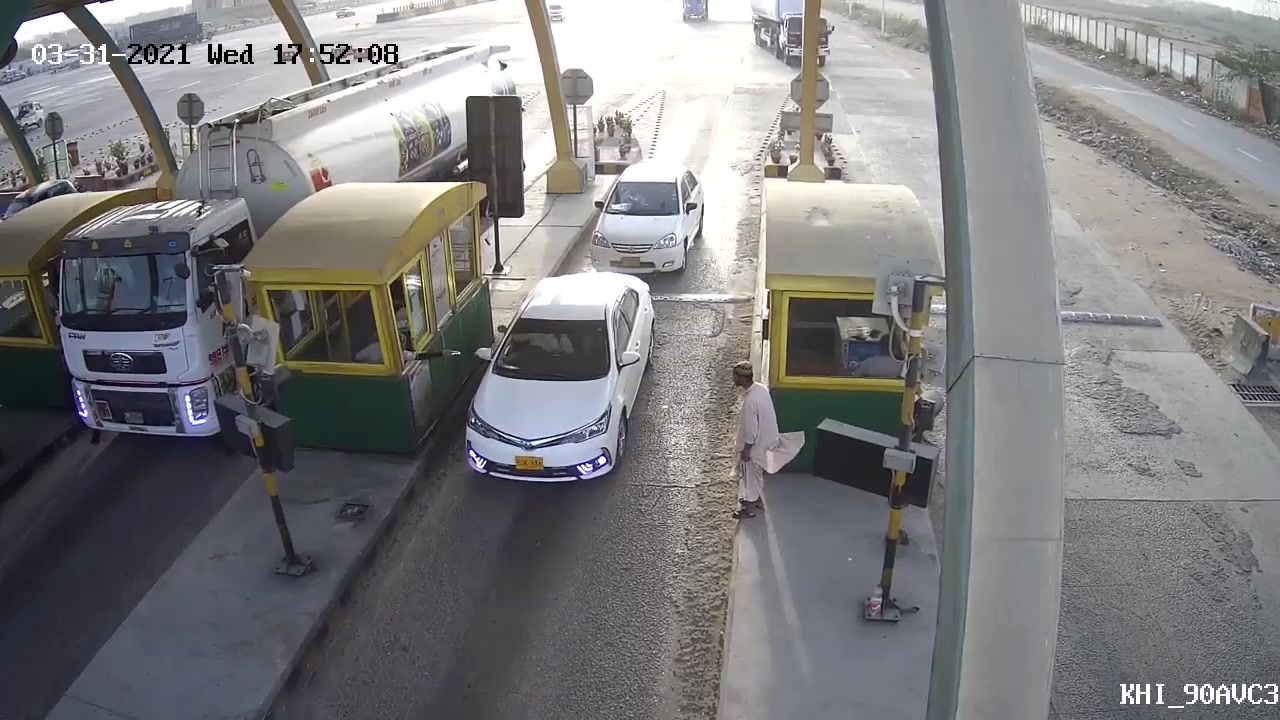F1: (460, 269, 660, 503), (583, 156, 710, 276)
